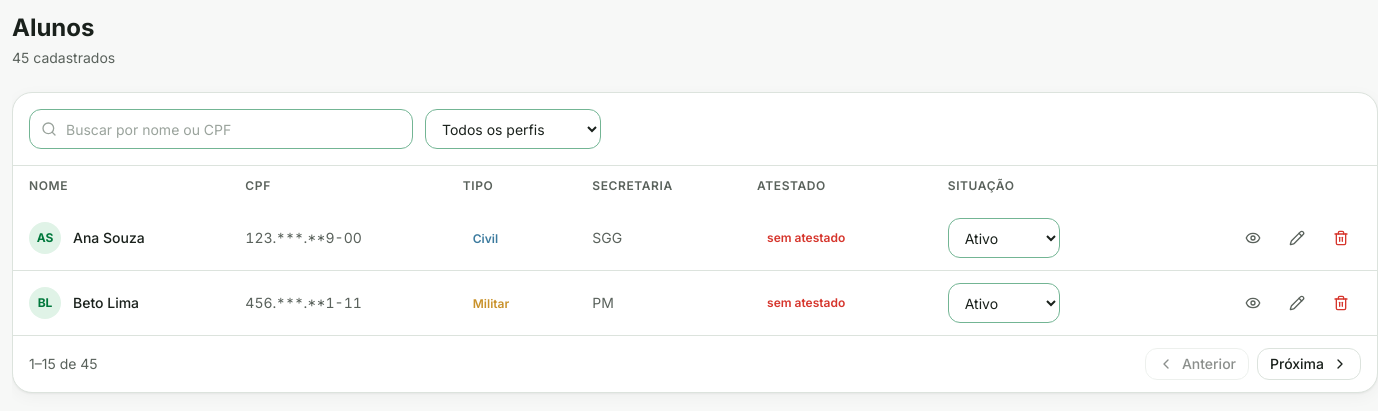
Test: Students - paginação › desabilita 'Próxima' na última página
Expected: the text "1–15 de 45" is shown, 29,354 -> 98,374
Click the button "Próxima": (1309, 364) 1257,348 -> 1361,380
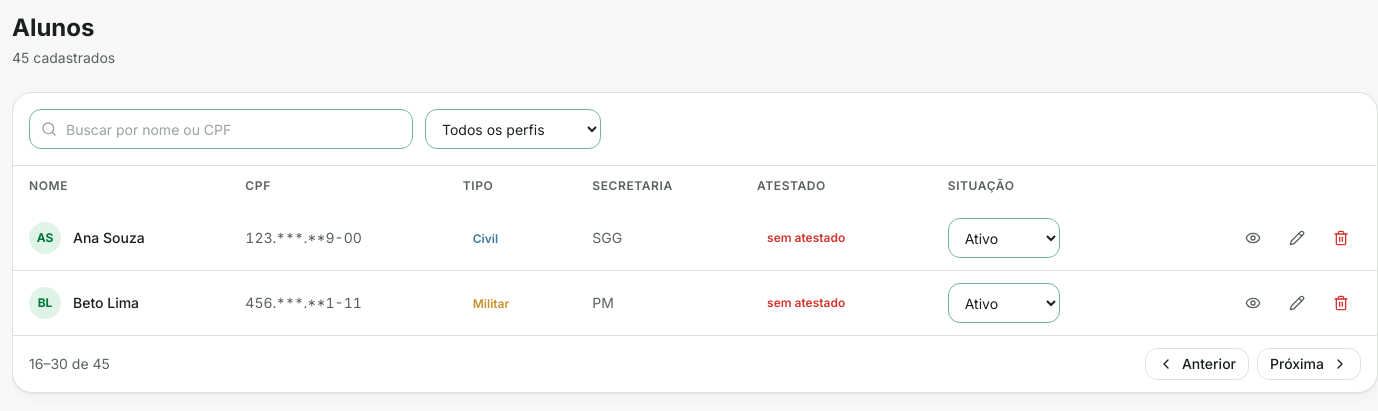
Now the text "16–30 de 45" is shown, box 29,354 -> 110,374
Click the button "Próxima": (1309, 364) 1257,348 -> 1361,380
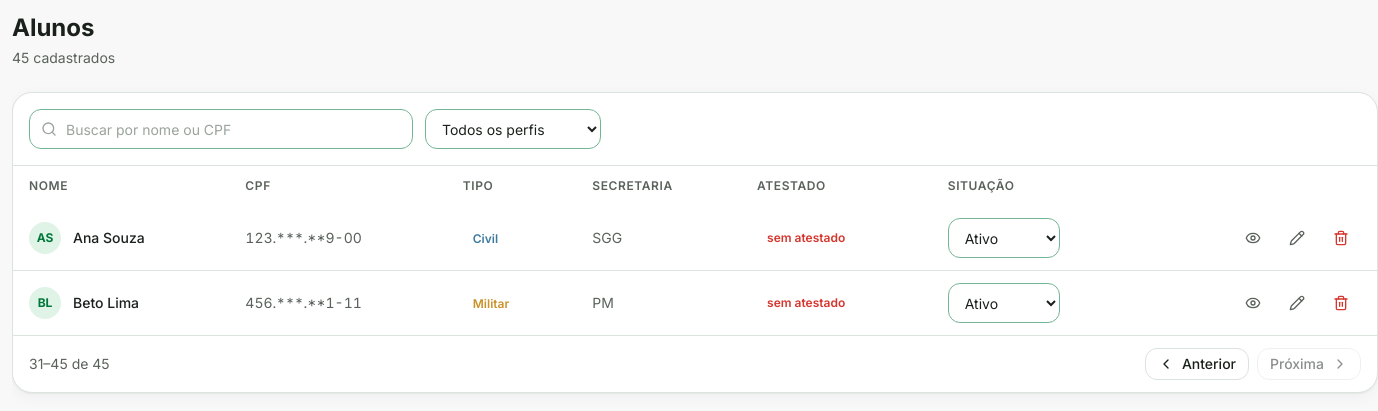
Now the text "31–45 de 45" is shown, box 29,354 -> 110,374
Now the button "Próxima" is disabled, box 1257,348 -> 1361,380
